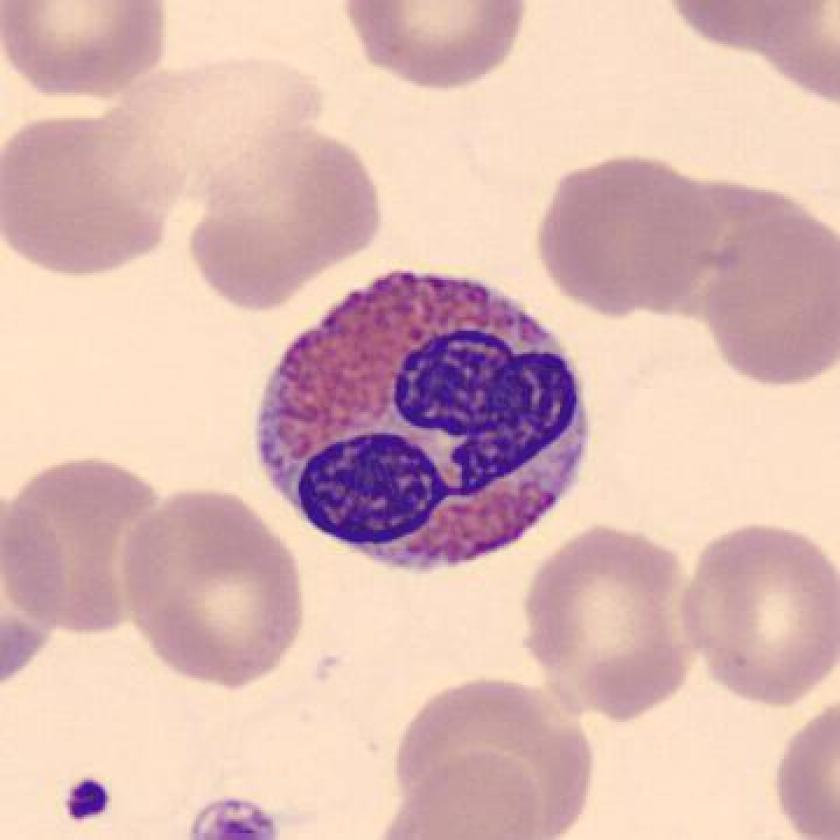eosinophil: (248, 260, 601, 587)
